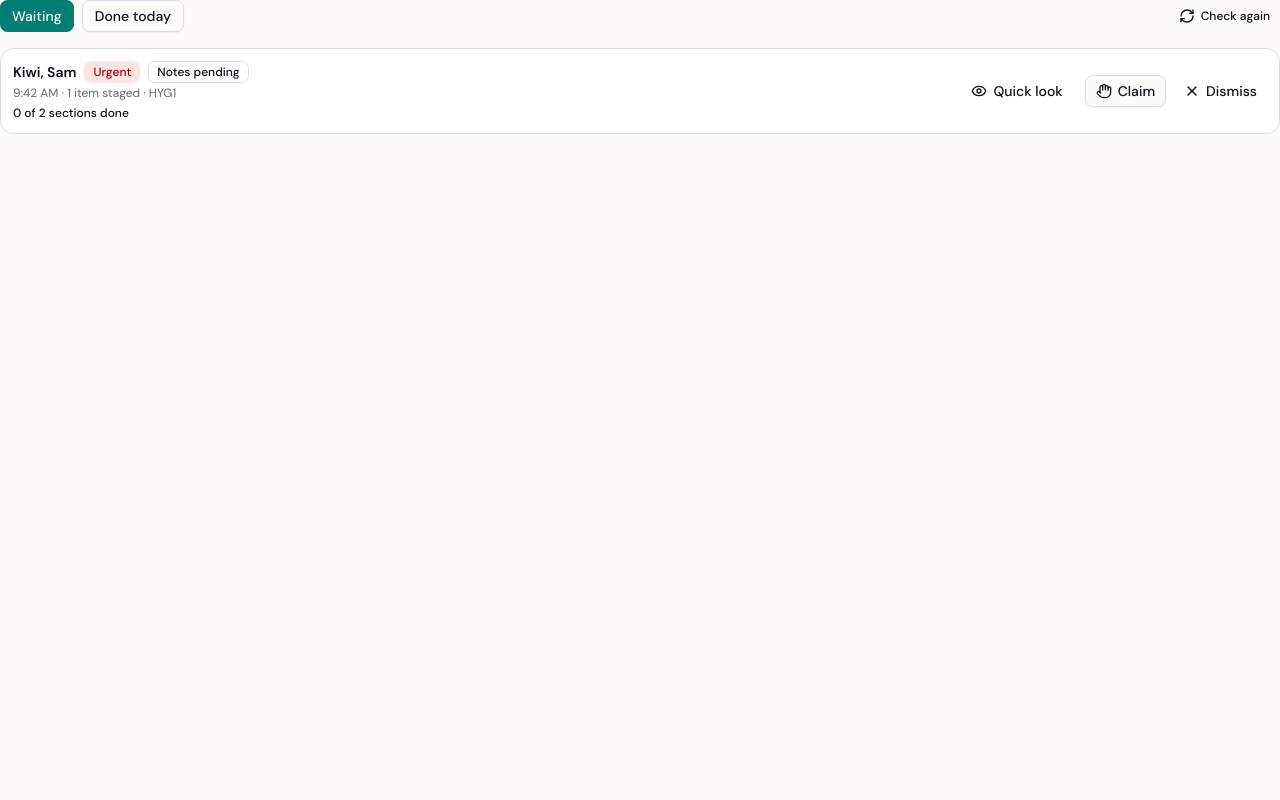
the Checkout inbox › Scheduled sends the outcome WITH the appointment note; the row leaves Waiting
This screenshot has width=1280, height=800.
Click the button with test id "checkout-row-quicklook" at [1017, 91], box [962,75,1073,107]
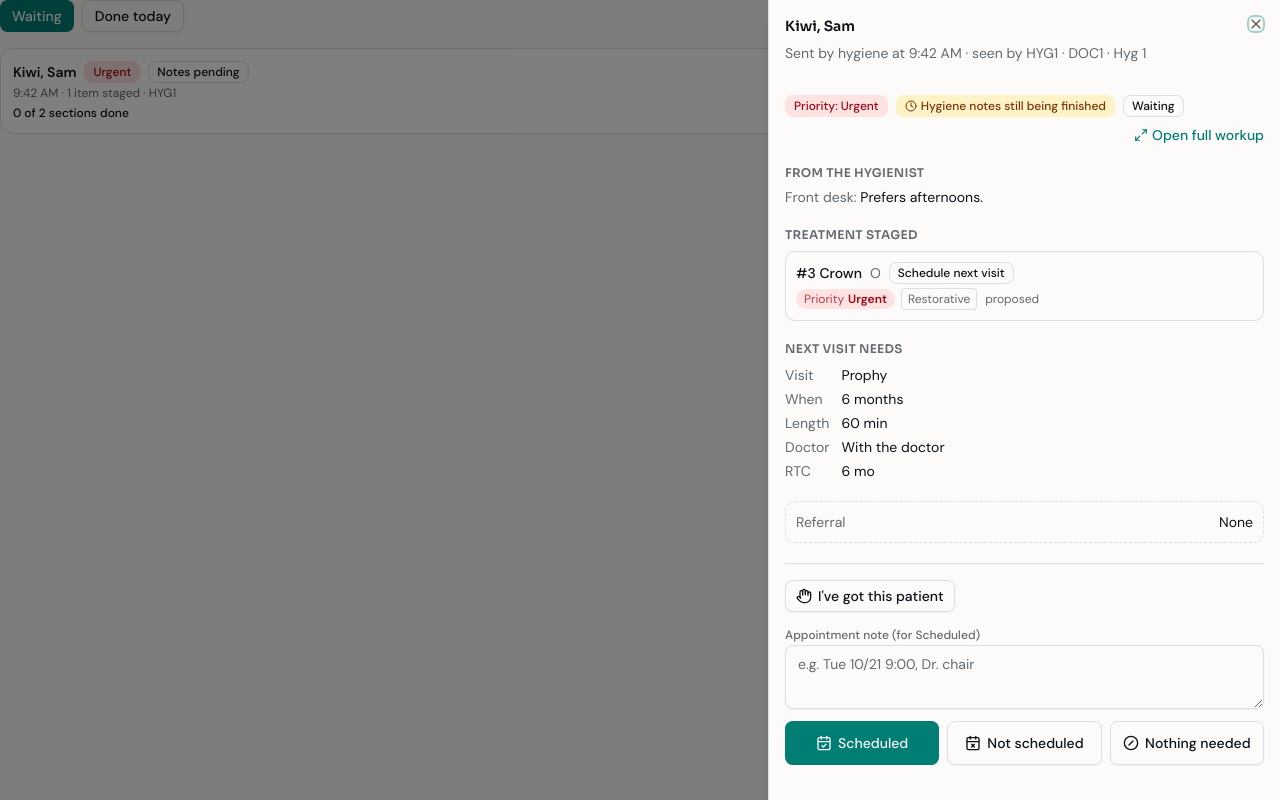
Type "Tue 9am" into the text box with test id "checkout-appointment-note" at [1024, 677], box [785,645,1264,709]
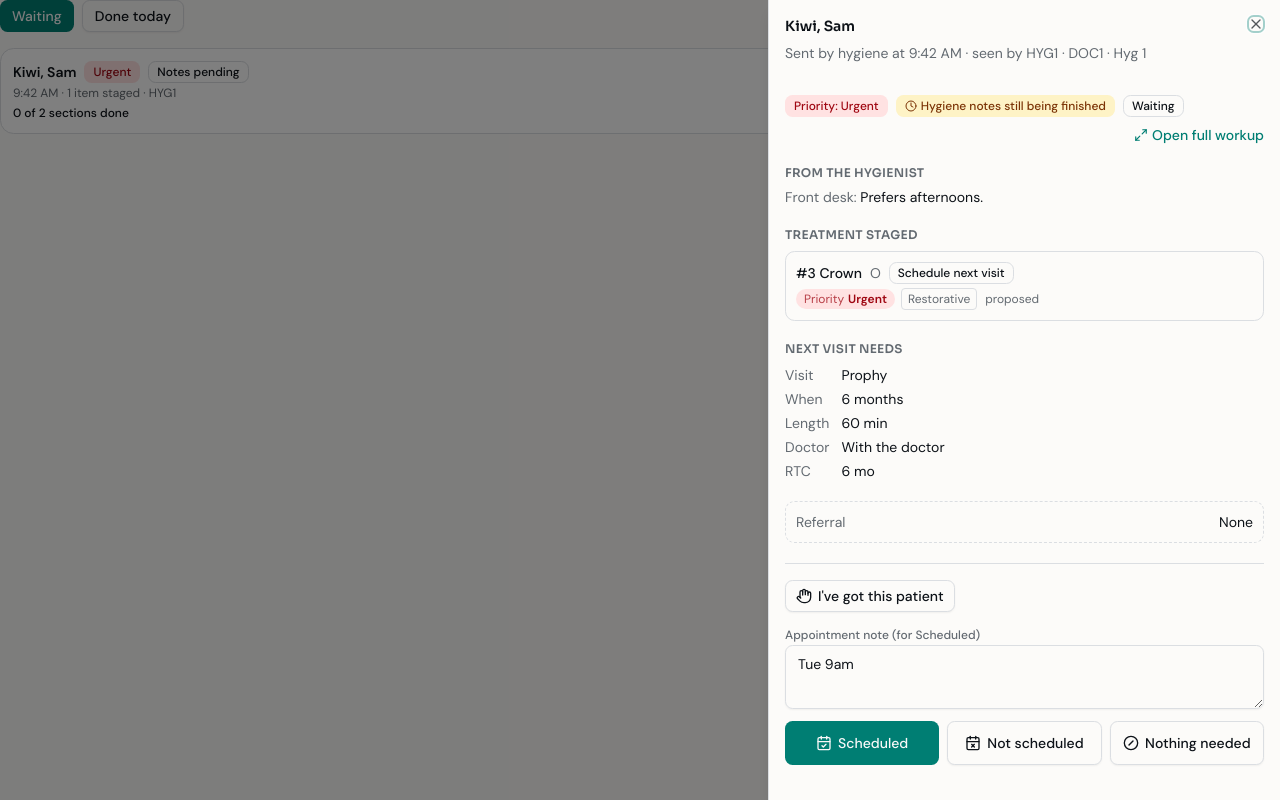
Click the button with test id "checkout-outcome-scheduled" at [862, 743], box [785,721,939,765]
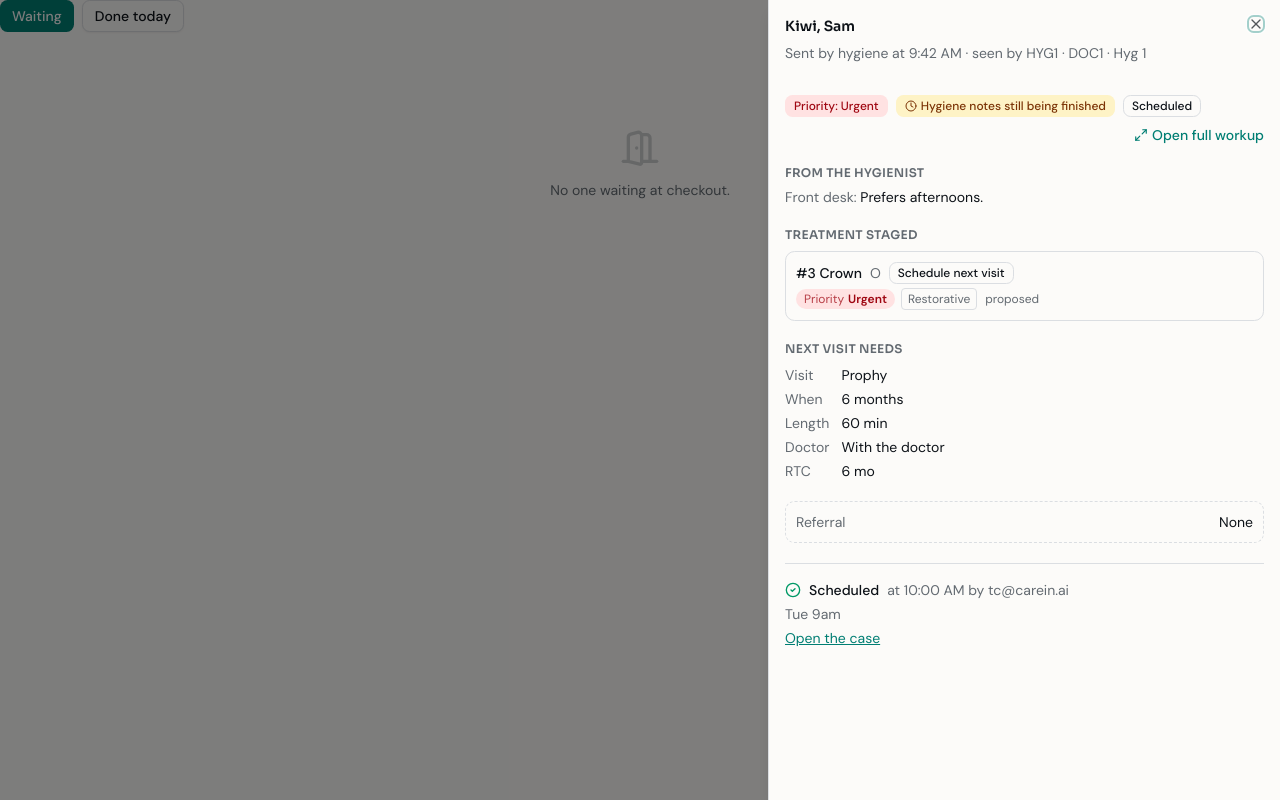
Result: the element with test id "checkout-answered" shows "Scheduled" at [809,581,879,599]
Result: the element with test id "checkout-answered" is shown at [785,563,1264,648]
Result: no buttons with test id "checkout-row" are shown
